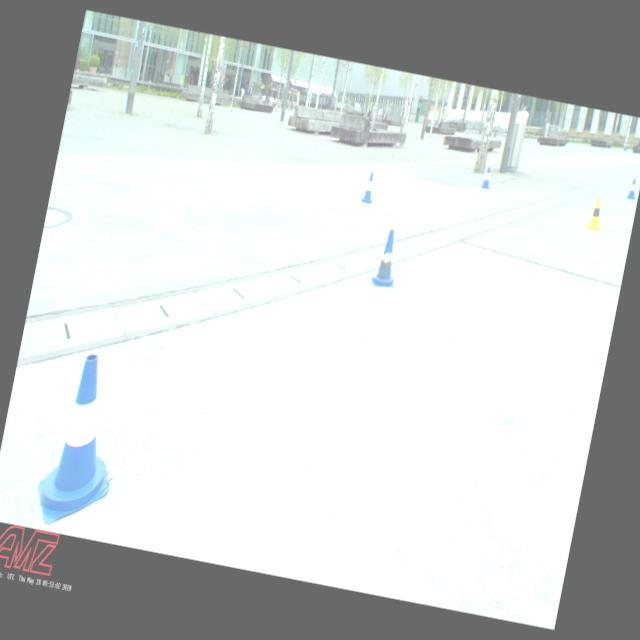blue_cone: (28, 342, 136, 532), (370, 228, 406, 290), (358, 171, 379, 206), (625, 177, 640, 201), (480, 167, 494, 190)
yellow_cone: (584, 196, 608, 234)
